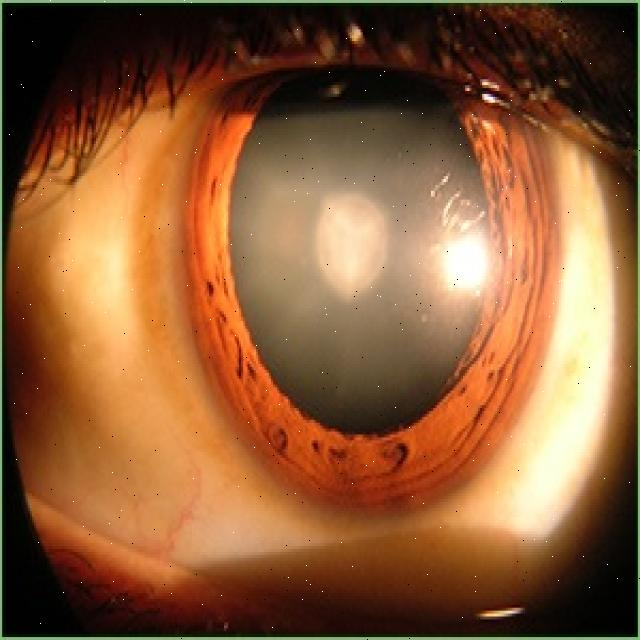Cataract: (177, 9, 557, 507)
